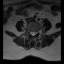CCS_stenosis: (32, 29, 34, 37)
LFS_normal: (36, 29, 38, 35)
LLS_normal: (34, 30, 36, 36)
RFS_normal: (28, 28, 30, 35)
RLS_normal: (30, 29, 32, 36)
